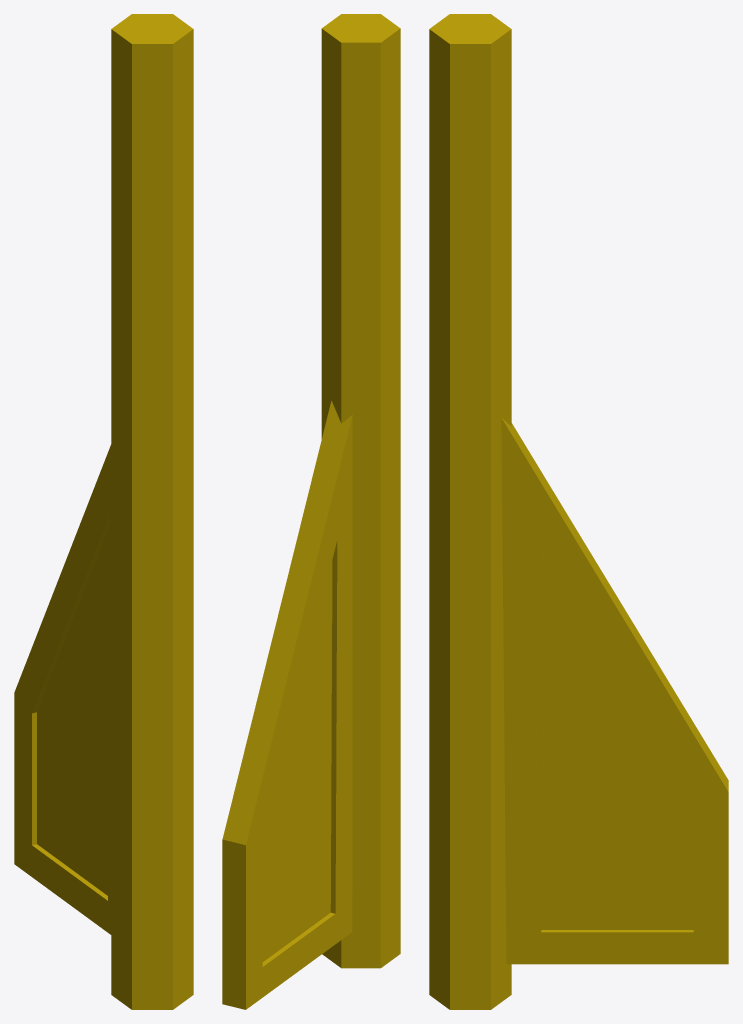
The model's file is FenceC.fbx.
3 renders of one model, left to right at view 1: azimuth 30°, elevation 25°; view 2: azimuth 150°, elevation 25°; view 3: azimuth 270°, elevation 25°, orthographic. The views are drawn at different scales.
Visible parts, largest first — view 1: FenceC; view 2: FenceC; view 3: FenceC.
Part boxes in pixels (box(x1,y1,x2,y2)): FenceC: box(14, 14, 193, 1009); FenceC: box(222, 14, 400, 1009); FenceC: box(429, 14, 728, 1009).
Bounding box in the file's own units: 5.45 × 81.64 × 22.93.
